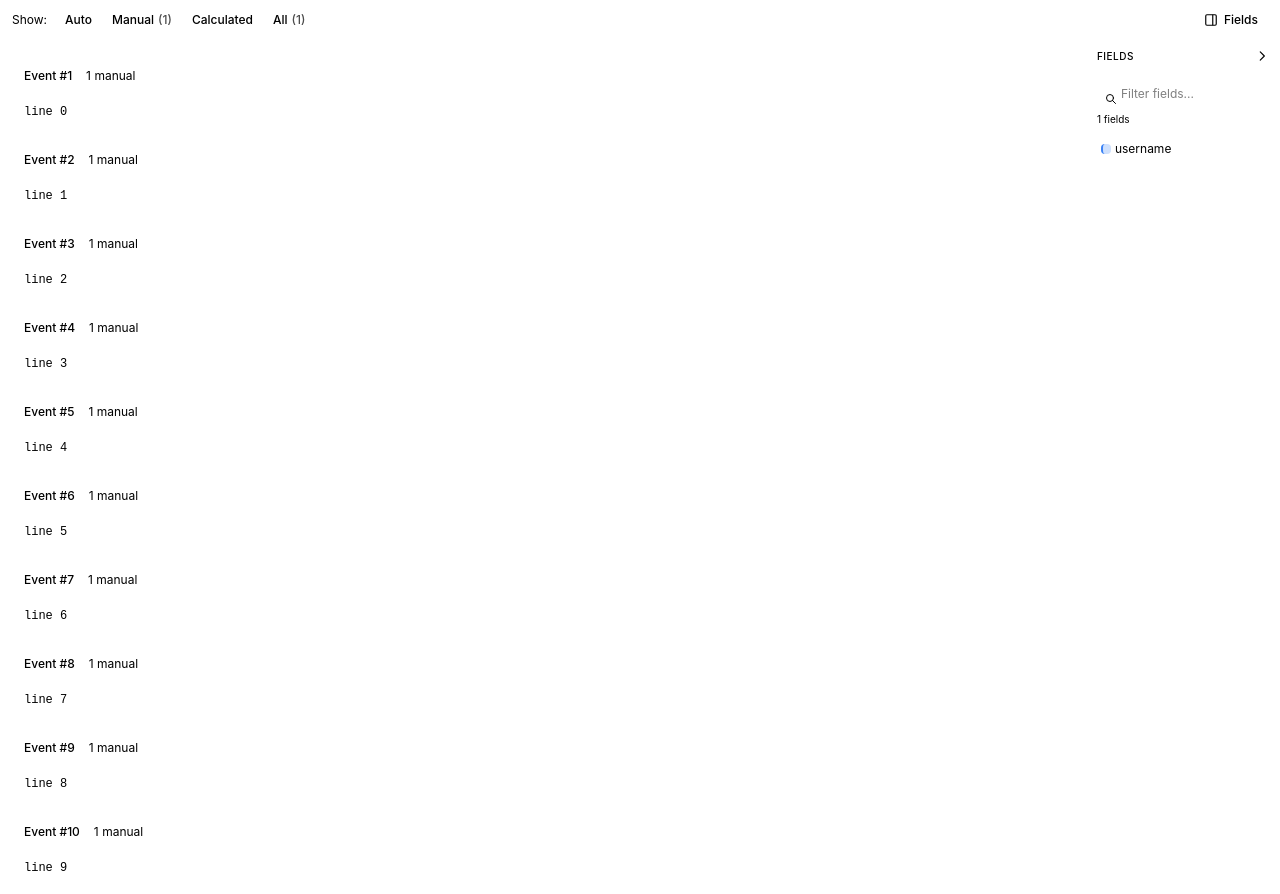
it: HighlightedTab › caps the rendered rows when a pin matches more than the window
This screenshot has width=1280, height=894.
Click the text "username" at (1143, 149), box [1115,141,1171,157]
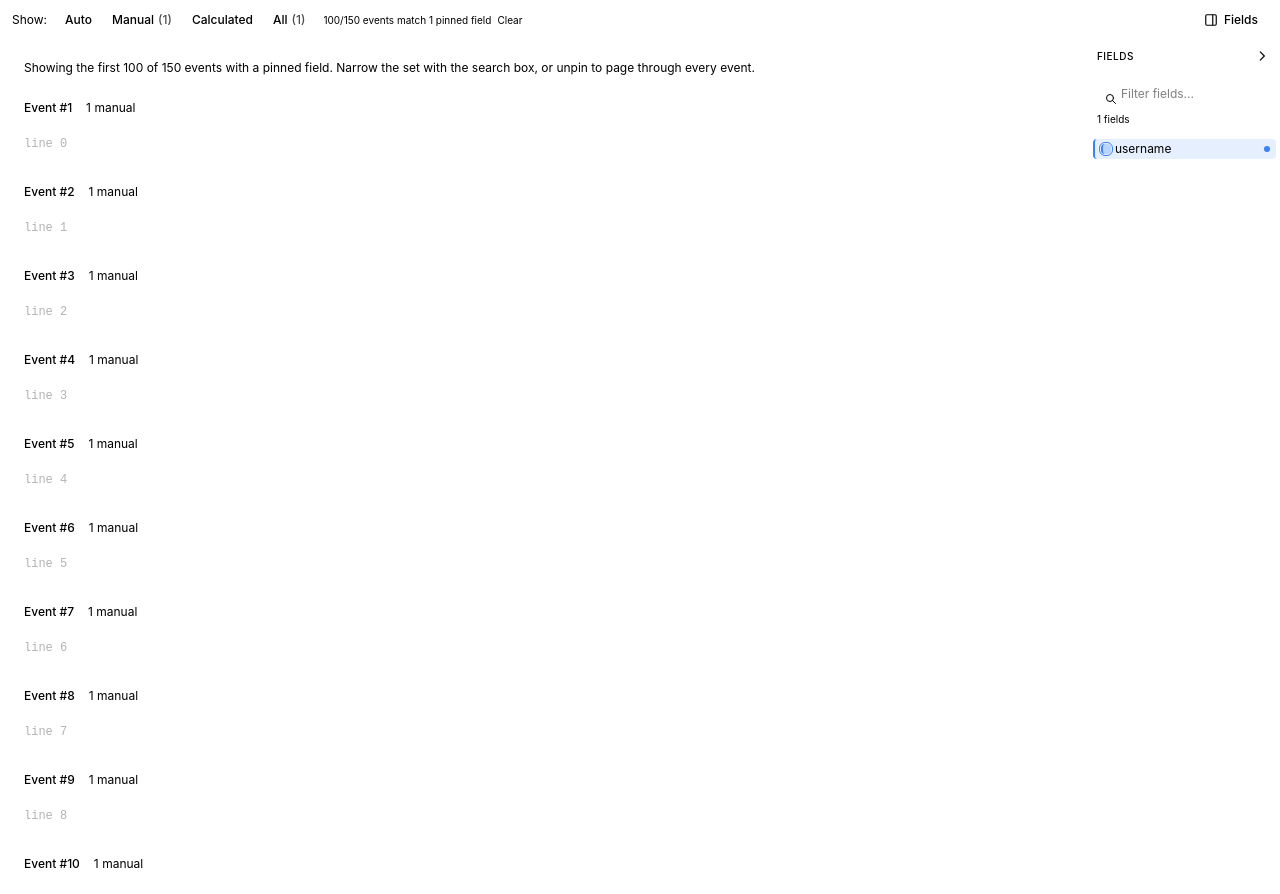
Expected: the text "Showing the first 100 of 150 events" is shown, [24,60,755,75]
